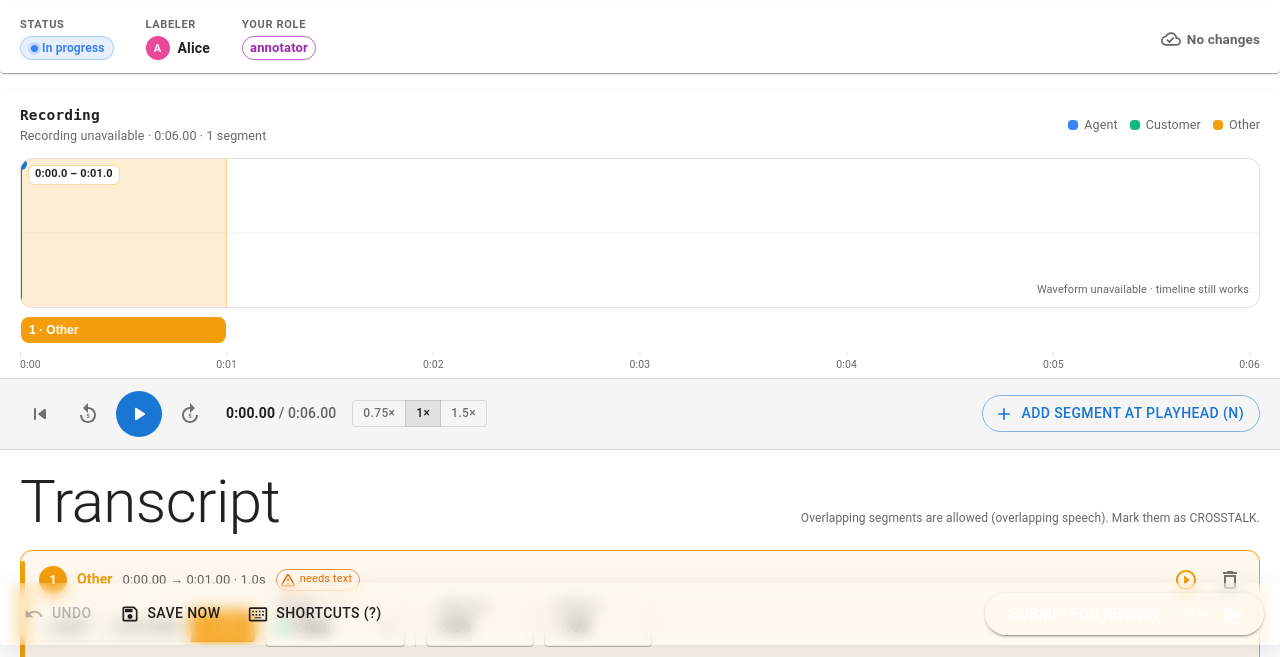
Test: AnnotationWorkspace › blocks incomplete submission and explains what to fix
What coordinates should you click on to do the following:
click the button "Submit for review Ctrl+↵"
I would click on:
 (1125, 614)
Its box is x1=985 y1=593 x2=1264 y2=635.
(page scrolled)
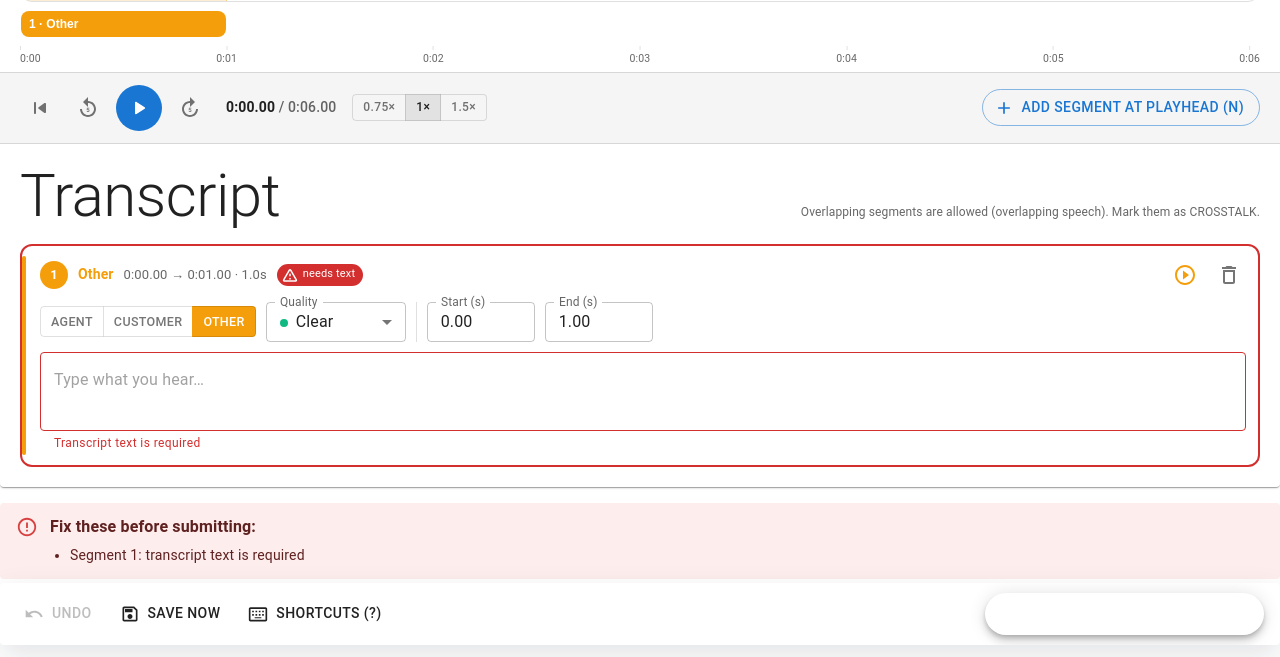
expect the message shows "Segment 1: transcript text is required": met, box x1=70 y1=547 x2=305 y2=563
